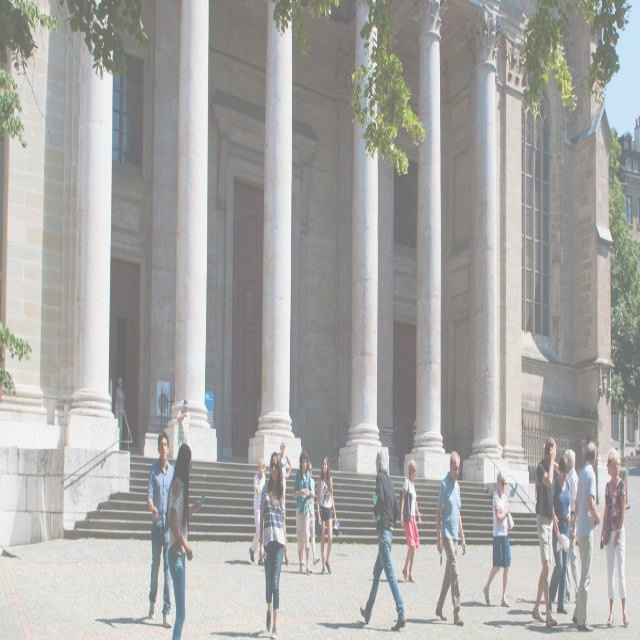pessoa: (359, 446, 406, 634), (166, 441, 207, 638), (258, 450, 290, 639), (569, 440, 600, 634), (531, 438, 562, 632), (146, 428, 175, 630), (434, 449, 466, 627), (600, 446, 630, 628), (482, 468, 514, 610), (548, 454, 572, 616), (398, 454, 423, 586), (562, 447, 581, 603), (292, 449, 315, 577), (316, 454, 340, 576), (248, 456, 268, 566), (300, 460, 320, 568), (278, 439, 292, 526), (176, 397, 190, 452), (115, 376, 126, 442)
